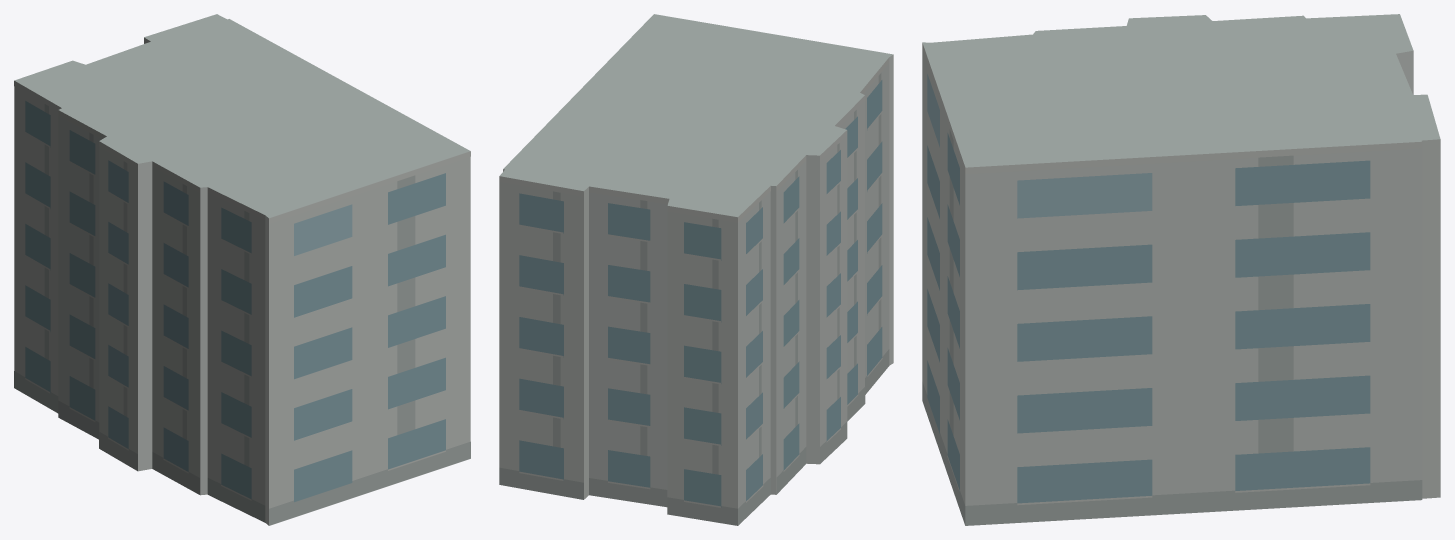
The model's file is survey-upis-32536554.glb.
3 renders of one model, left to right at view 1: azimuth 30°, elevation 25°; view 2: azimuth 150°, elevation 25°; view 3: azimuth 270°, elevation 25°, orthographic. The views are drawn at different scales.
Visible parts, largest first — view 1: survey-upis-32536554.tmp; view 2: survey-upis-32536554.tmp; view 3: survey-upis-32536554.tmp.
Boxes of the visible parts, bbox=[...] form: survey-upis-32536554.tmp: bbox=[14, 14, 470, 525]; survey-upis-32536554.tmp: bbox=[499, 14, 893, 525]; survey-upis-32536554.tmp: bbox=[922, 14, 1440, 525].
Size of the model in its own units: 12.19 by 13.25 by 17.38.
